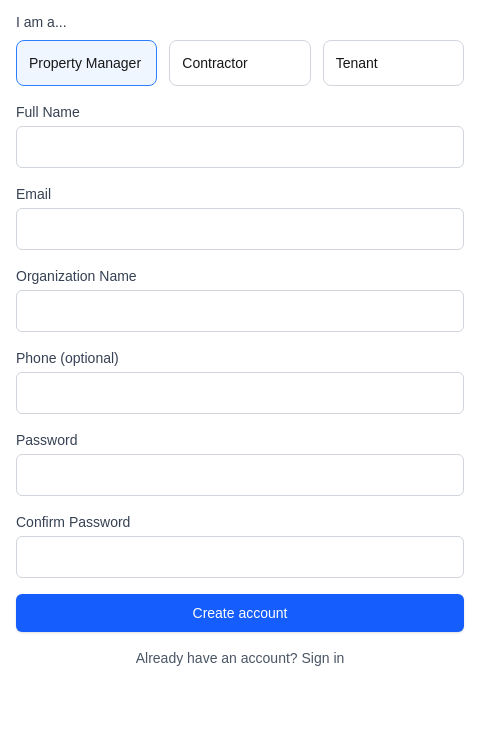
Scenario: RegisterForm › handles registration errors
Note: Fill in valid form data
Type "Test User" into the field labelled "Full Name".
click(240, 147); type("Test User")  # box [16,126,464,168]
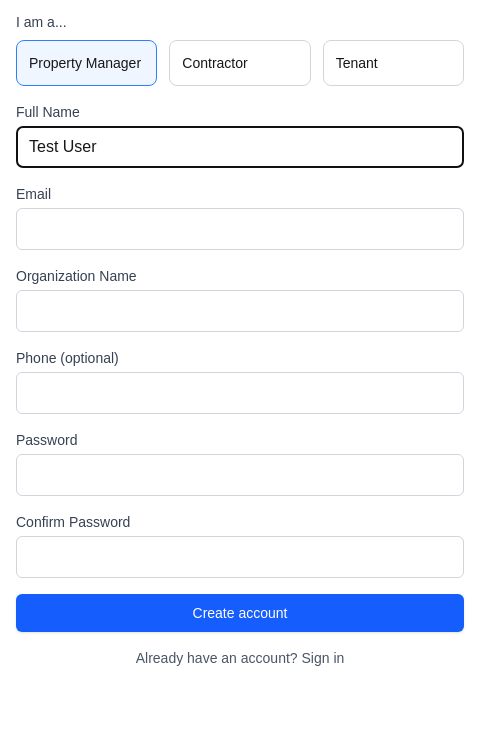
Type "test@example.com" into the field labelled "Email".
click(240, 229); type("test@example.com")  # box [16,208,464,250]
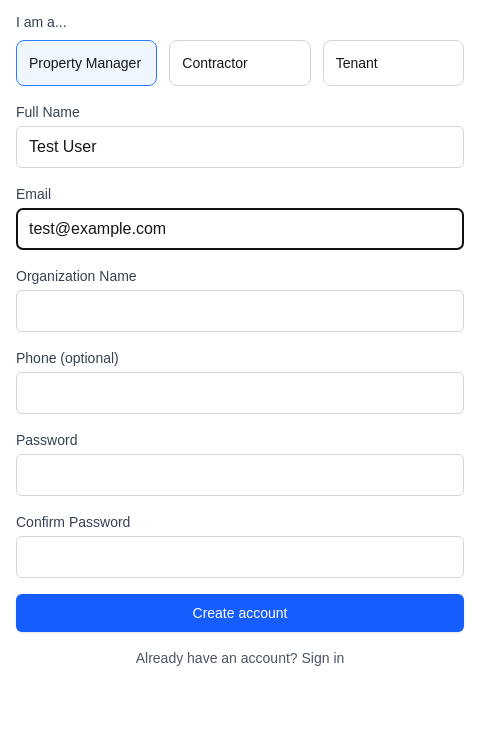
Type "Password123!" into the password field labelled "Password".
click(240, 475); type("Password123!")  # box [16,454,464,496]
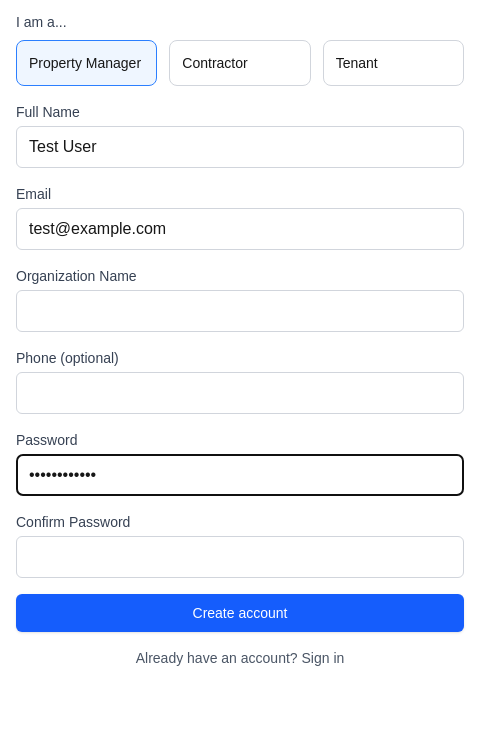
Type "Password123!" into the password field labelled "Confirm Password".
click(240, 557); type("Password123!")  # box [16,536,464,578]
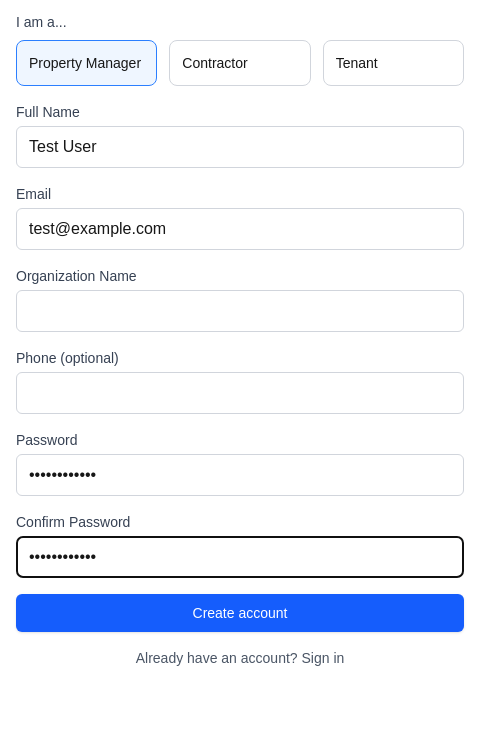
Note: Submit form
Click the button "Create account".
click(240, 613)  # box [16,594,464,632]
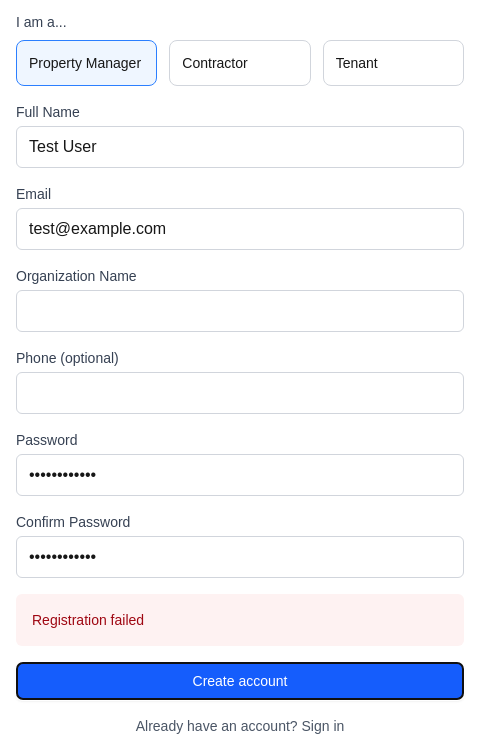
Expected: the text "Registration failed" is shown, [32,612,144,628]
